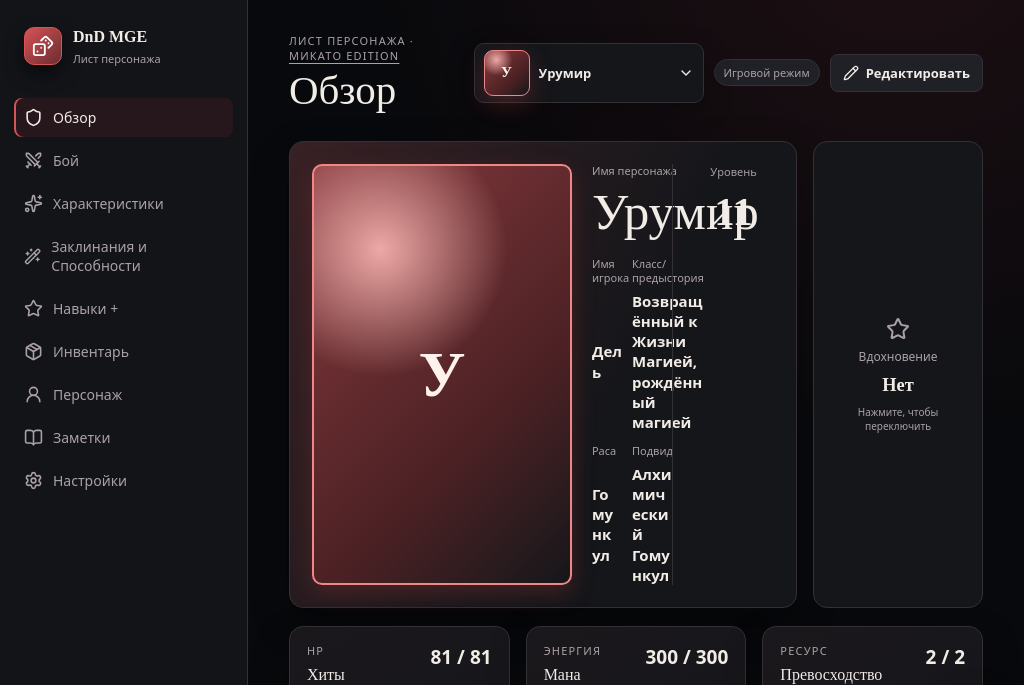
Test: игровые представления листа › оставляет текущие ресурсы обзора только для чтения, но позволяет редактировать максимумы HP и маны
This screenshot has width=1024, height=685.
Expected: the text "81 / 81" is shown, [430,644,492,670]
Click the button "Редактировать". click: {"x": 906, "y": 73}
box: [830,54,983,92]
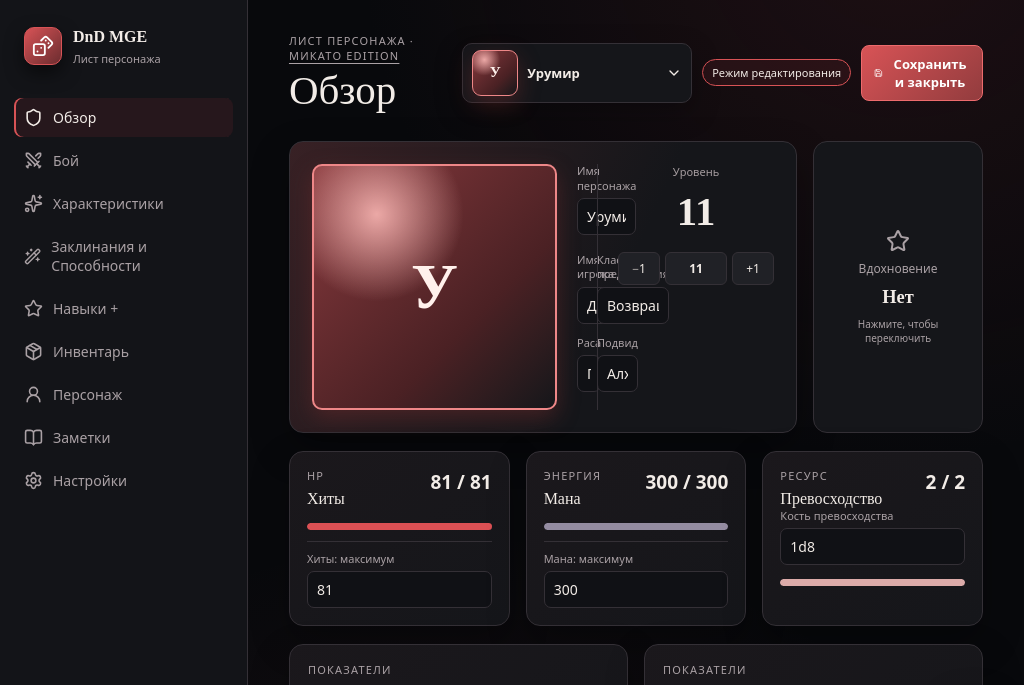
Result: the field labelled "Хиты: максимум" is shown
Result: the field labelled "Мана: максимум" is shown at [544,571,728,608]
Replace the text in the field labelled "Хиты: максимум" with "90". click: {"x": 399, "y": 589}
box: [307,571,492,608]
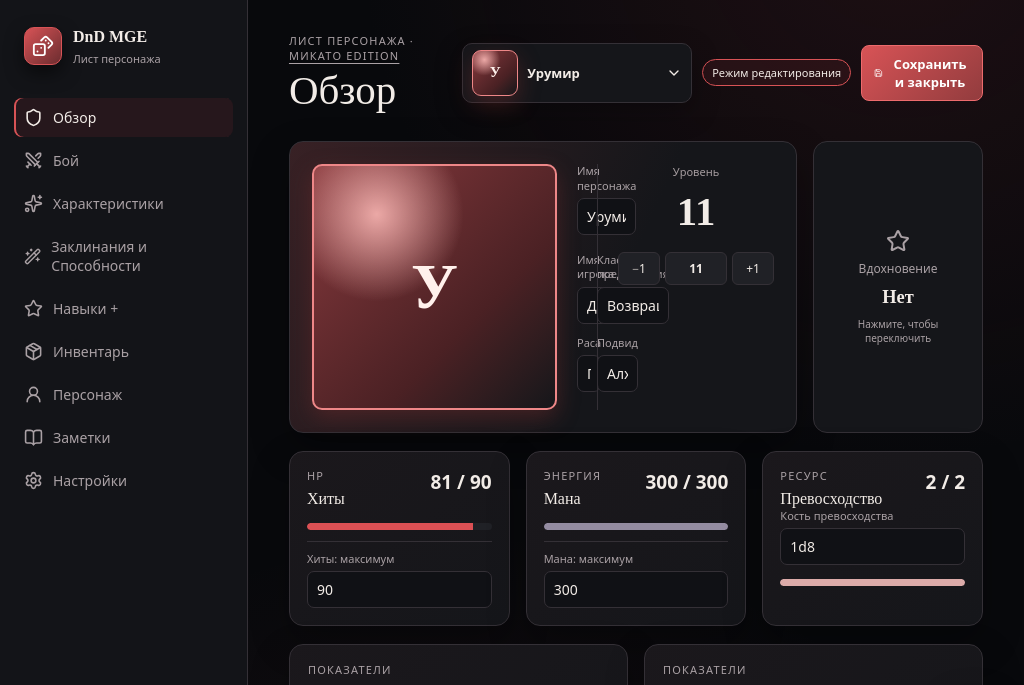
Click the button "Бой". click: {"x": 124, "y": 160}
box: [14,141,233,180]
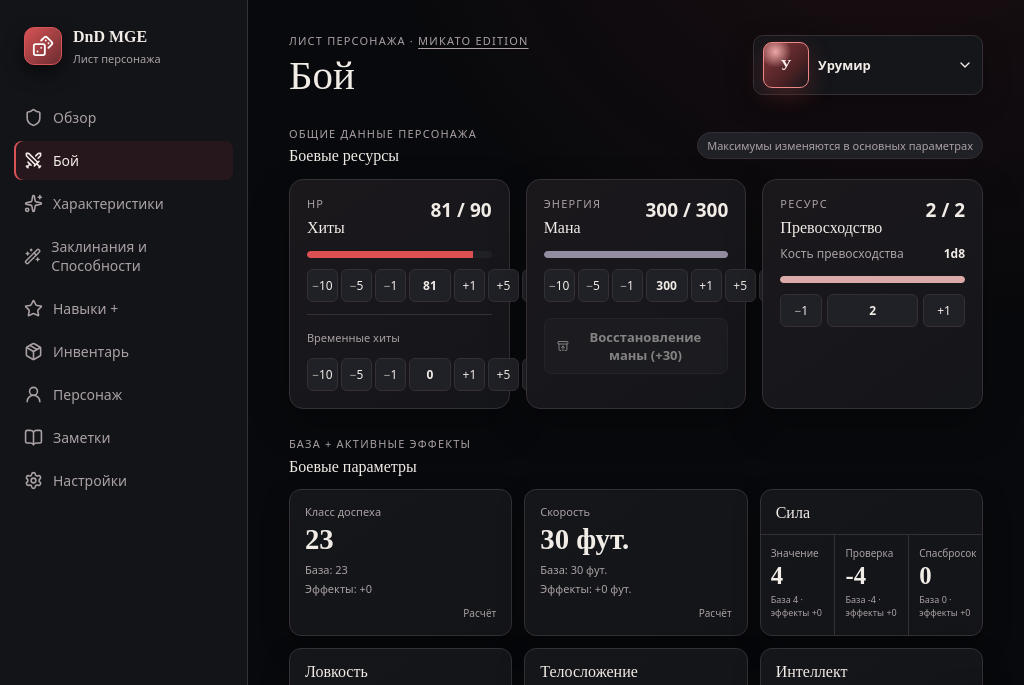
Result: the number field named "Хиты: текущее значение" is shown at [409,269,451,302]
Result: the text labelled "Хиты: максимум" is gone
Result: the button named "Хиты: текущее значение: плюс 10" is shown at [522,269,553,302]
